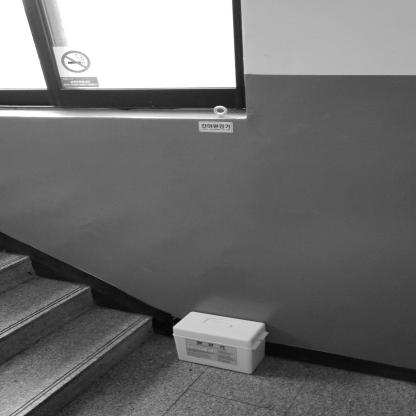DDL: (172, 311, 270, 374)
